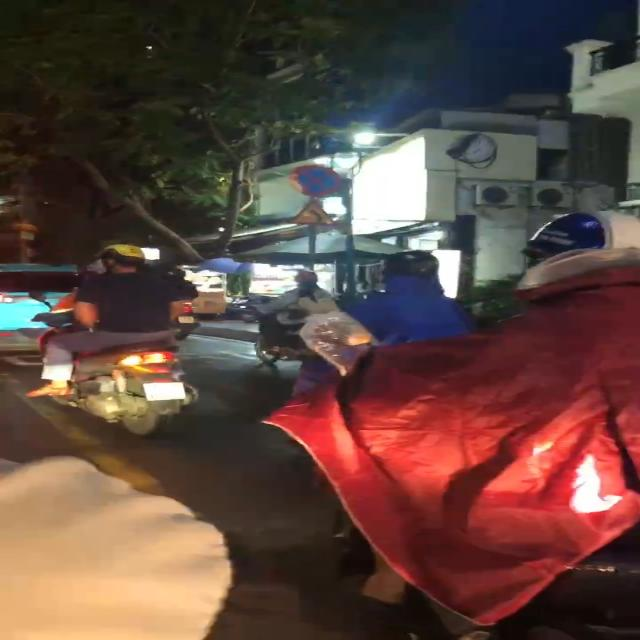Bien bao cho ngoat nguy hiem: (284, 197, 343, 227)
